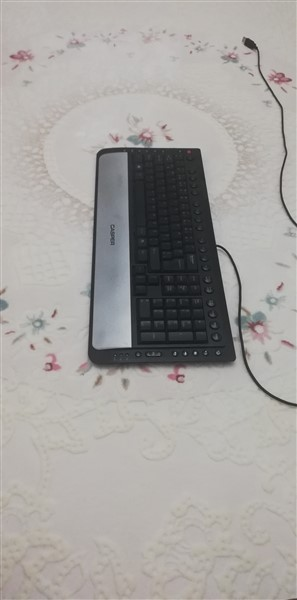klavye: (88, 147, 237, 365)
